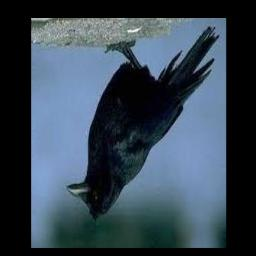Crow: (67, 23, 219, 219)
